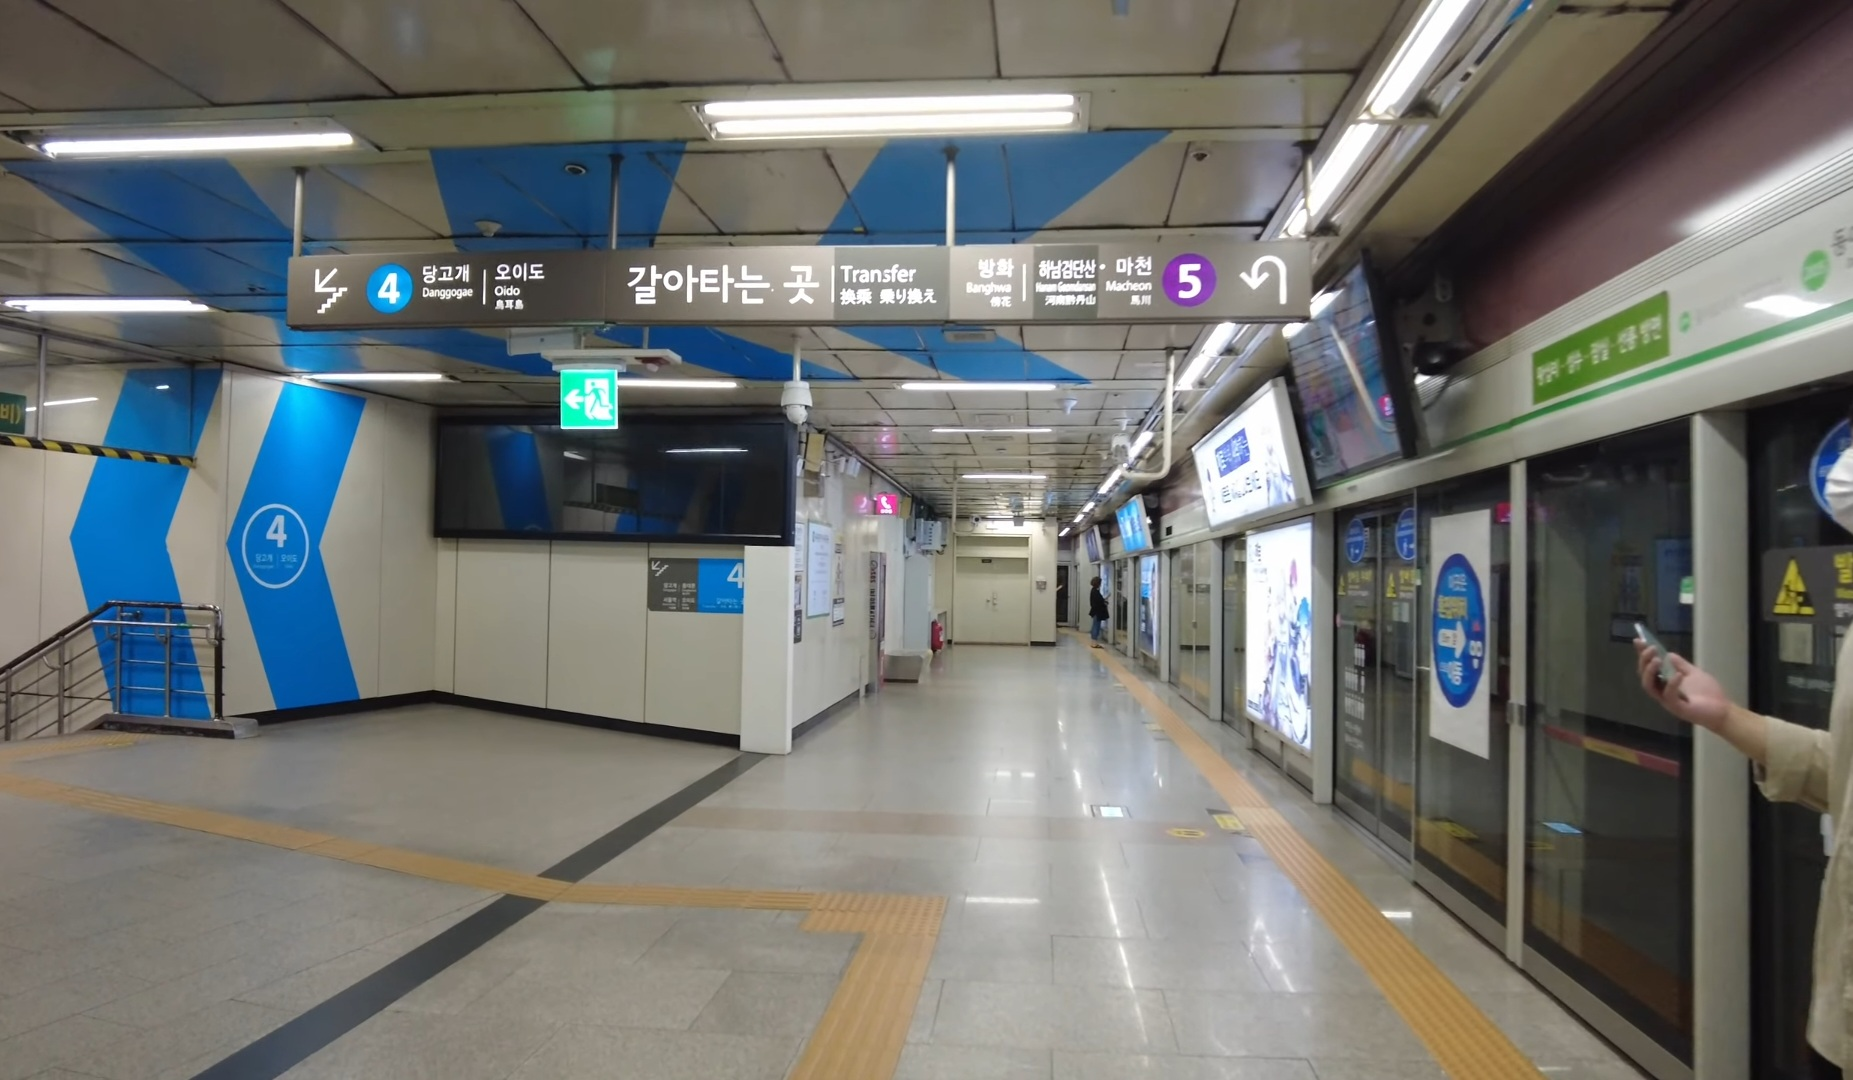signBoard: (278, 230, 1326, 336)
